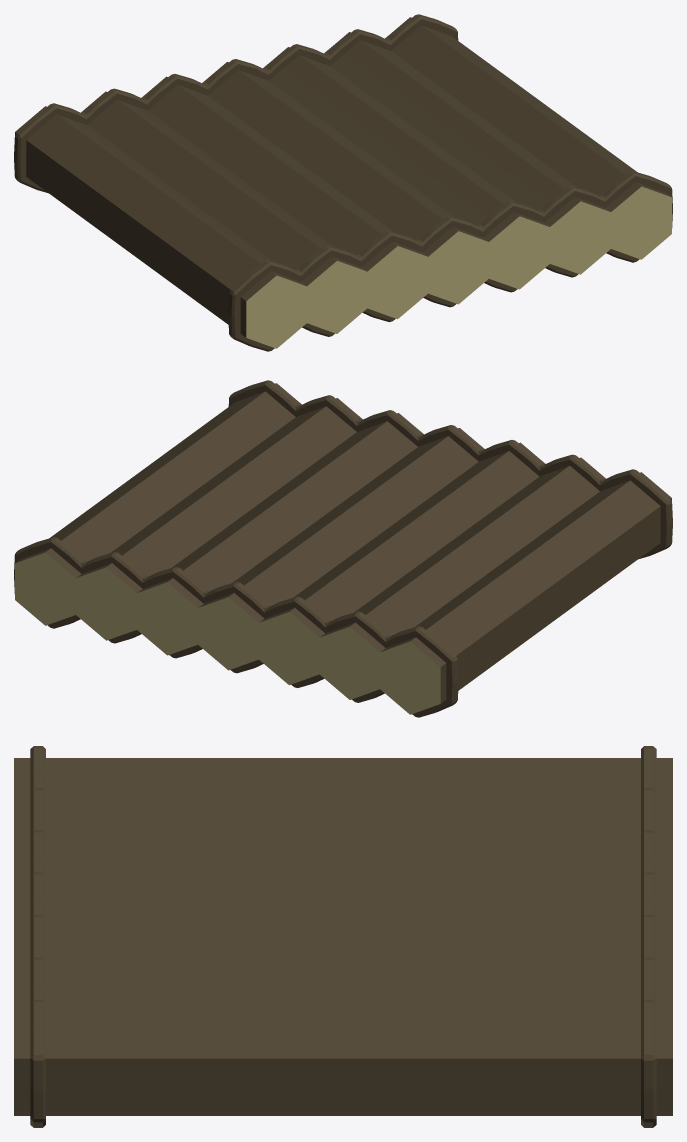
The model's file is Raft.fbx.
3 views of the same model, one above another, from view 1: azimuth 30°, elevation 25°; view 2: azimuth 150°, elevation 25°; view 3: azimuth 270°, elevation 25° (orthographic). The views are drawn at different scales.
Parts seen in each view (by area): view 1: Cylinder; view 2: Cylinder; view 3: Cylinder.
Boxes of the visible parts, x1,y1,x2,y2 form: Cylinder: (14,14,672,351); Cylinder: (14,380,672,717); Cylinder: (14,746,672,1127).
Bounding box in the file's own units: 443 × 84.72 × 402.
